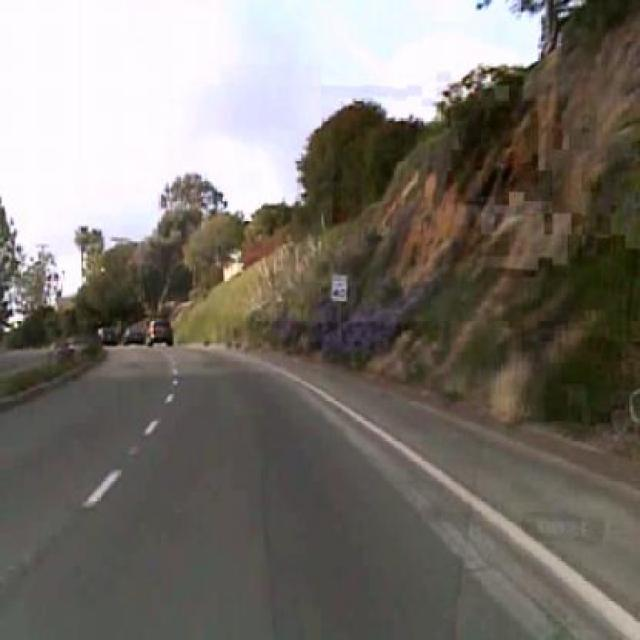speedLimit40: (331, 272, 349, 302)
